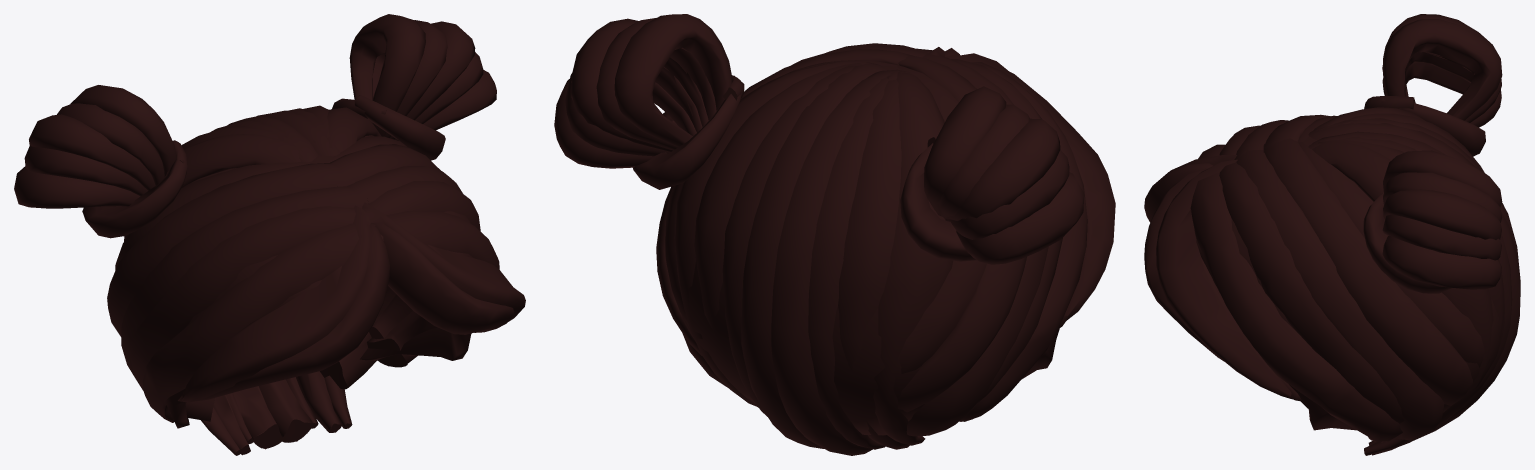
The model's file is hair-5-c15e19c3.glb.
3 views of the same model, side by side, from view 1: azimuth 30°, elevation 25°; view 2: azimuth 150°, elevation 25°; view 3: azimuth 270°, elevation 25° (orthographic). The views are drawn at different scales.
Visible parts, largest first — view 1: hair_5.001; view 2: hair_5.001; view 3: hair_5.001.
Boxes of the visible parts, x1,y1,x2,y2 form: hair_5.001: [14, 14, 525, 455]; hair_5.001: [554, 14, 1115, 455]; hair_5.001: [1144, 14, 1520, 455].
Size of the model in its own units: 2.62 by 2.02 by 1.94.
